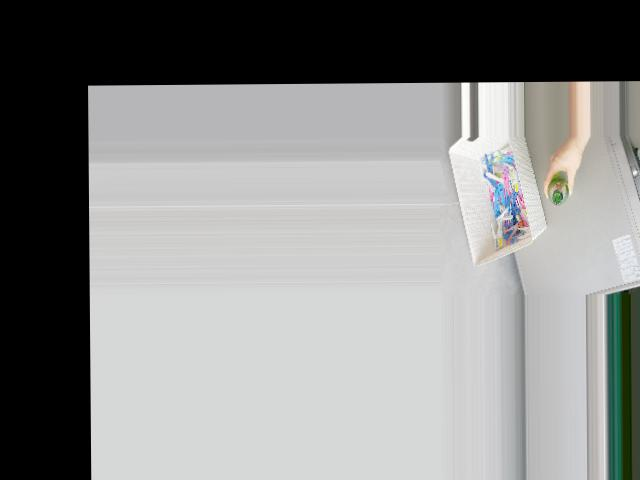beer: (548, 175, 569, 205)
